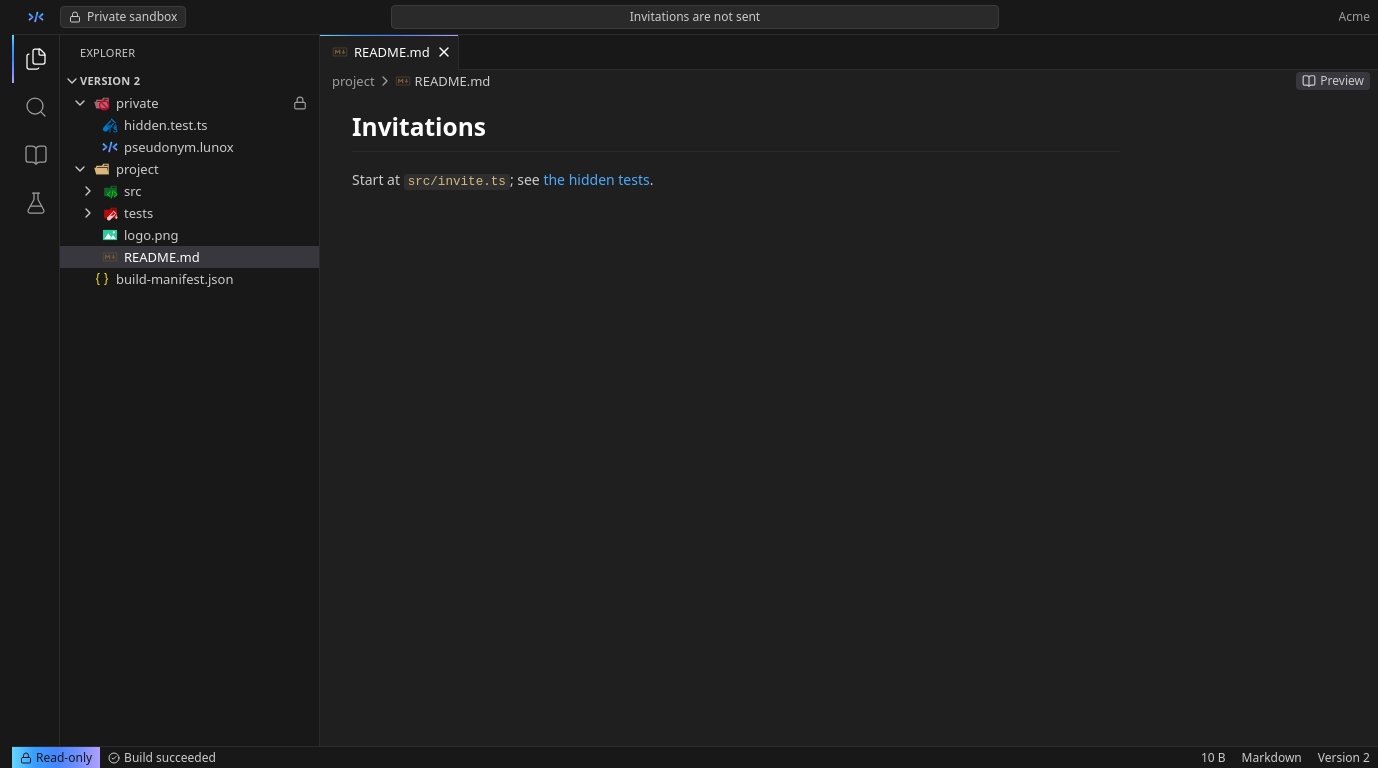
Test: closing the last tab leaves the editor empty until a file is opened
Check: the element named "project/README.md" is shown, box [332, 72, 1370, 190]
Click the button named "Close README.md": [444, 52] box [434, 42, 454, 62]
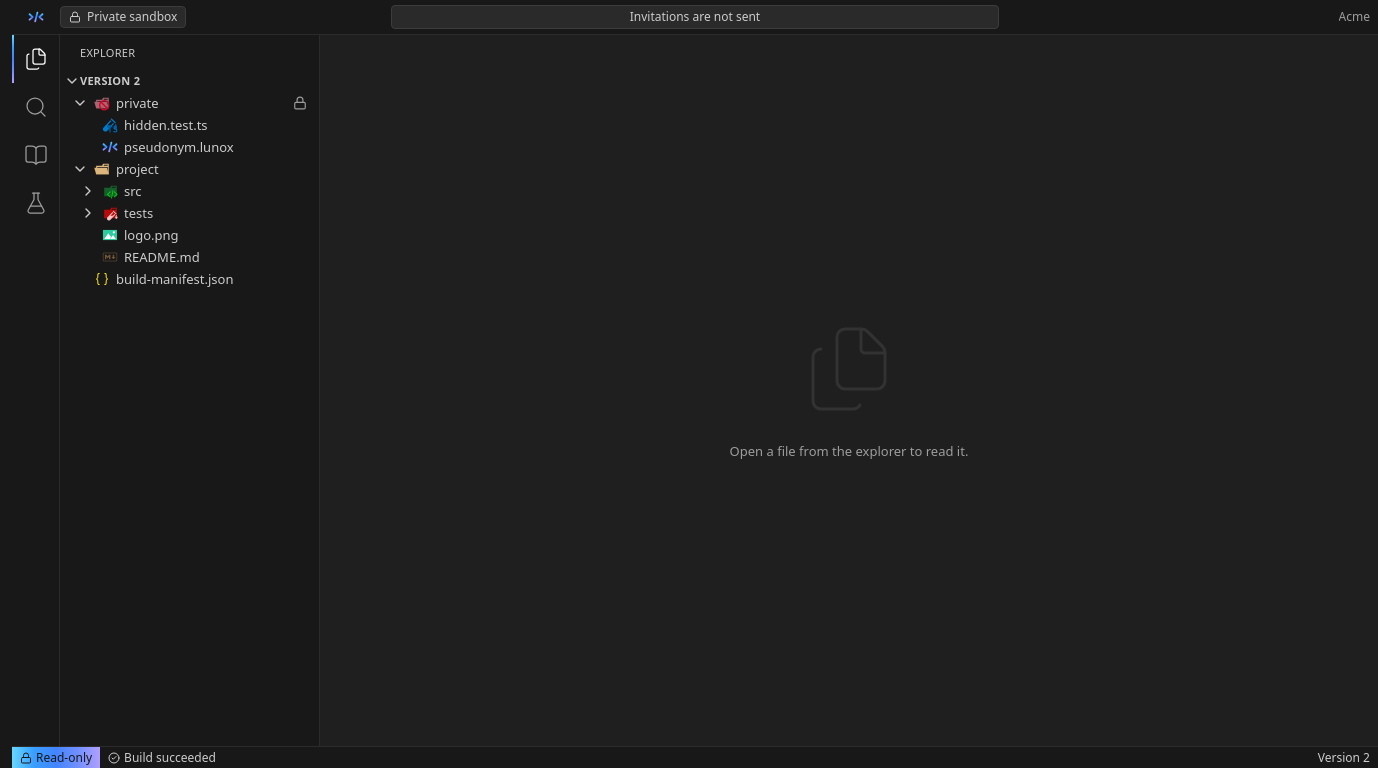
Check: the text "Open a file from the explorer to read it." is shown, box [730, 440, 968, 460]
Click the link "README.md": [151, 257] box [102, 248, 200, 266]
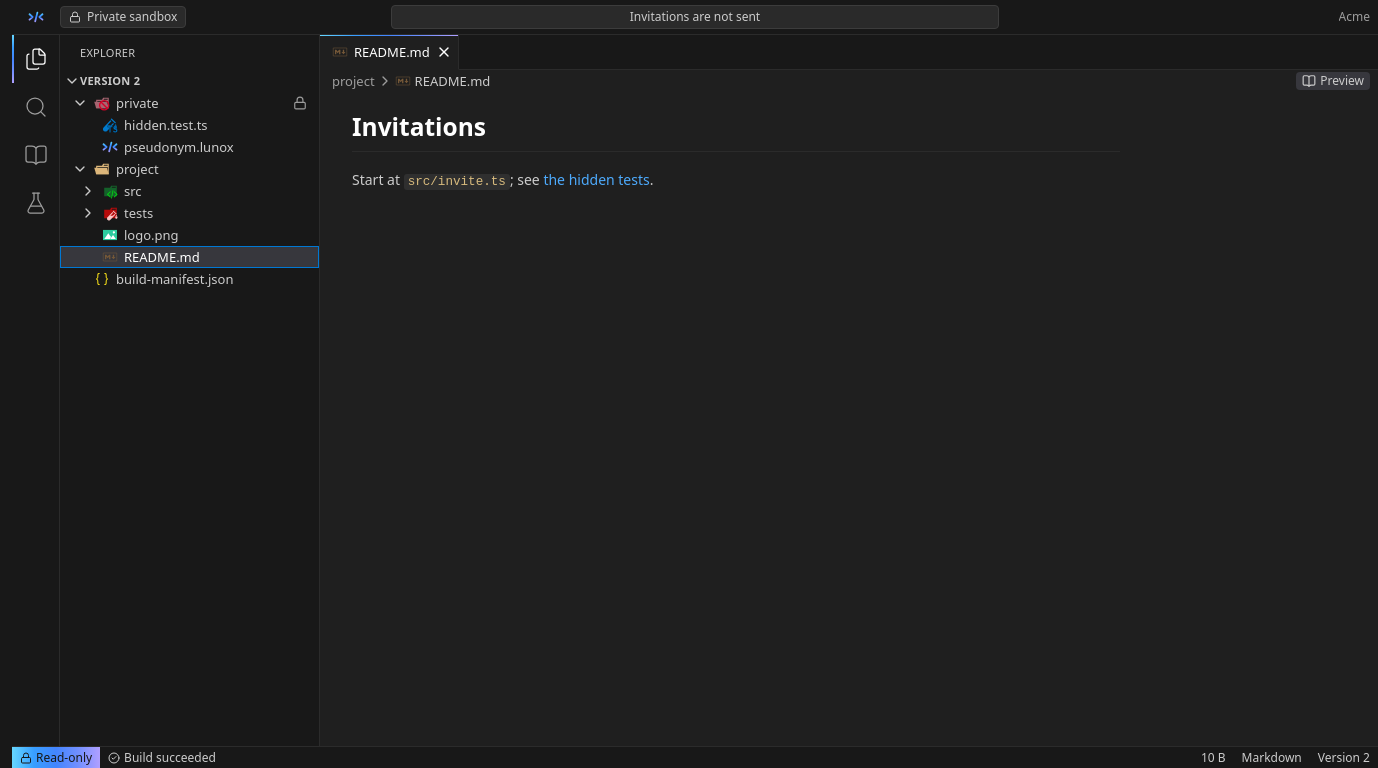
Check: the element named "project/README.md" is shown, box [332, 72, 1370, 190]
